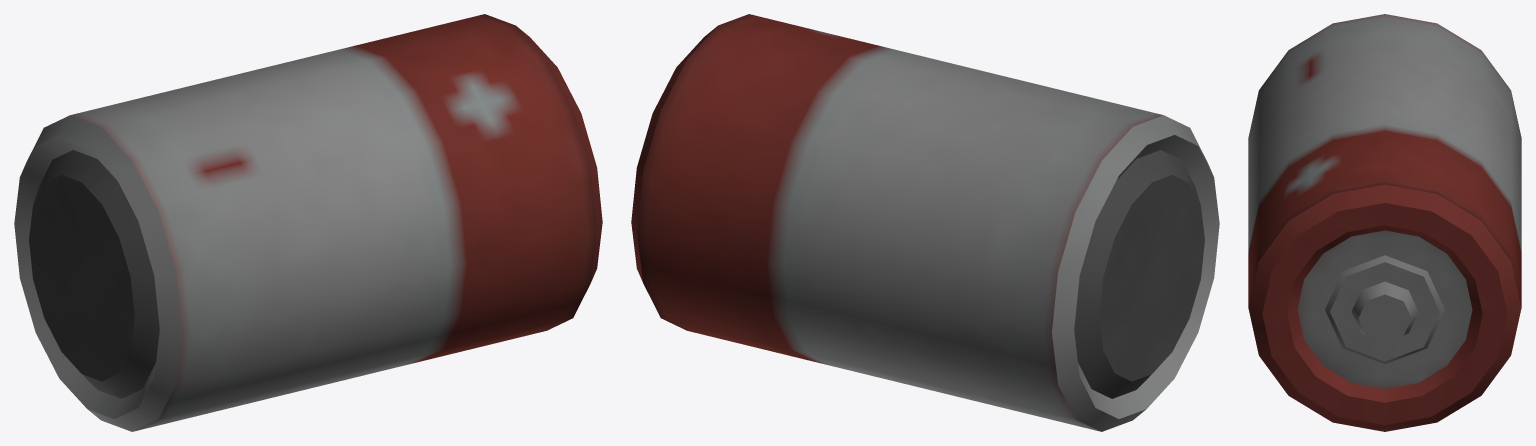
The model's file is battery_mp_2_1.dae.
3 views of the same model, side by side, from view 1: azimuth 30°, elevation 25°; view 2: azimuth 150°, elevation 25°; view 3: azimuth 270°, elevation 25° (orthographic). The views are drawn at different scales.
Visible parts, largest first — view 1: battery_mp_2_1; view 2: battery_mp_2_1; view 3: battery_mp_2_1.
Part boxes in pixels (left/top/right/bottom): battery_mp_2_1: left=14, top=14, right=602, bottom=431; battery_mp_2_1: left=631, top=14, right=1219, bottom=431; battery_mp_2_1: left=1248, top=14, right=1521, bottom=431.
Bounding box in the file's own units: 0.0883 × 0.054 × 0.054.
Materials: 1 (1 with a texture image).
